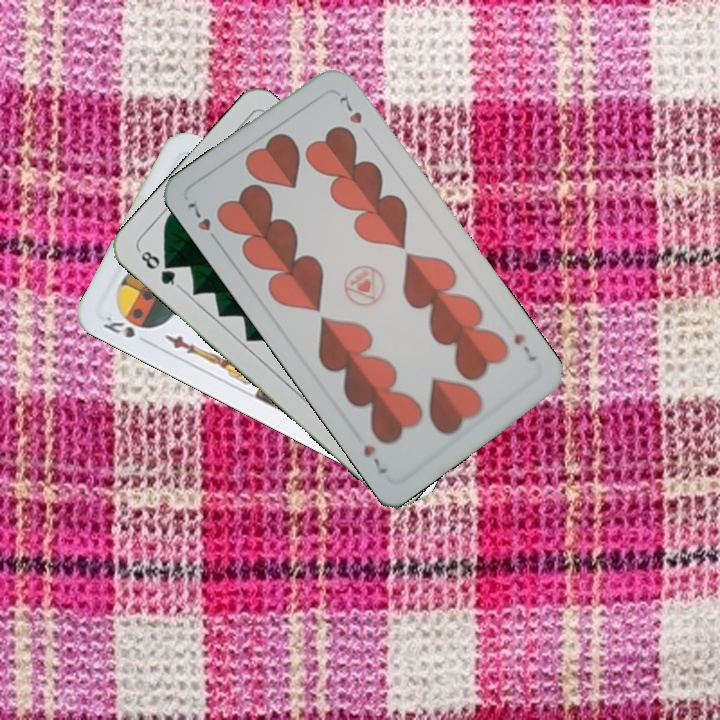G8: (135, 246, 183, 290)
H7: (183, 198, 214, 234), (510, 329, 539, 364)
SK: (99, 311, 138, 341)
